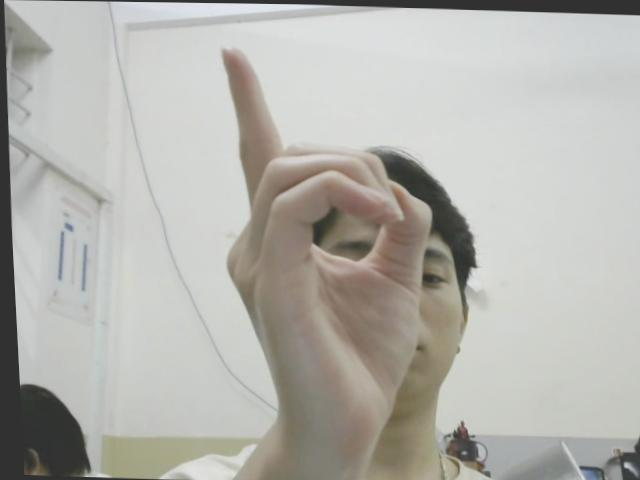D: (209, 42, 442, 443)
